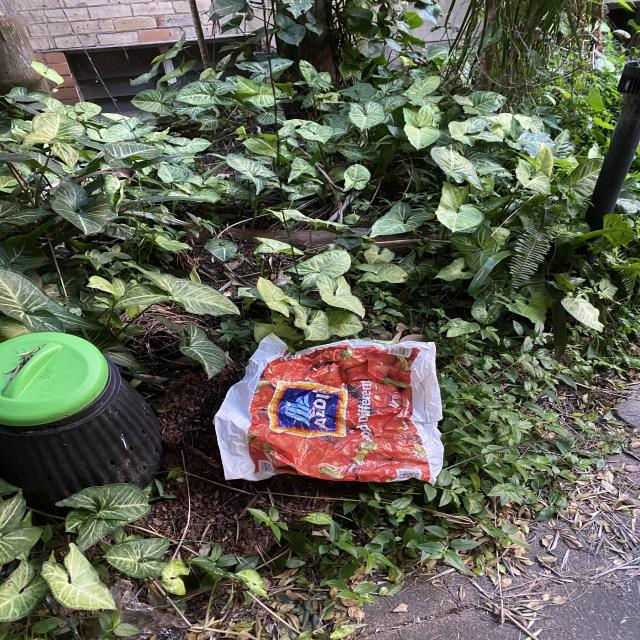bag: (212, 328, 448, 482)
container: (0, 322, 171, 514)
